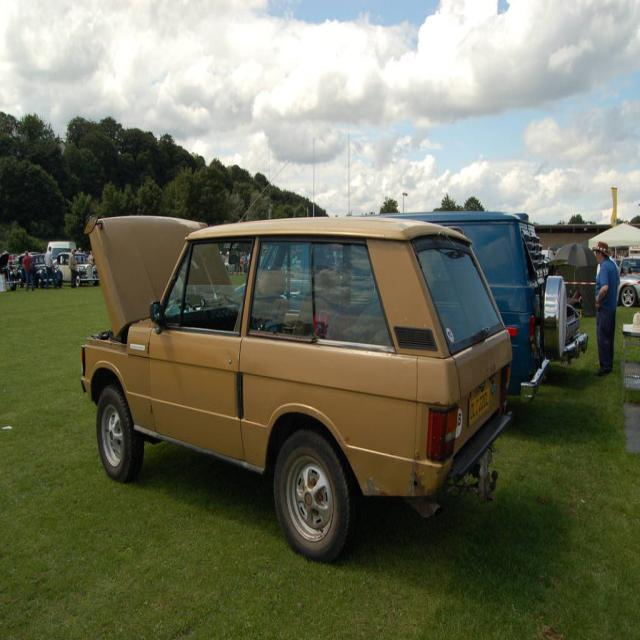car: (78, 216, 524, 570), (392, 207, 588, 413), (617, 256, 639, 310)
